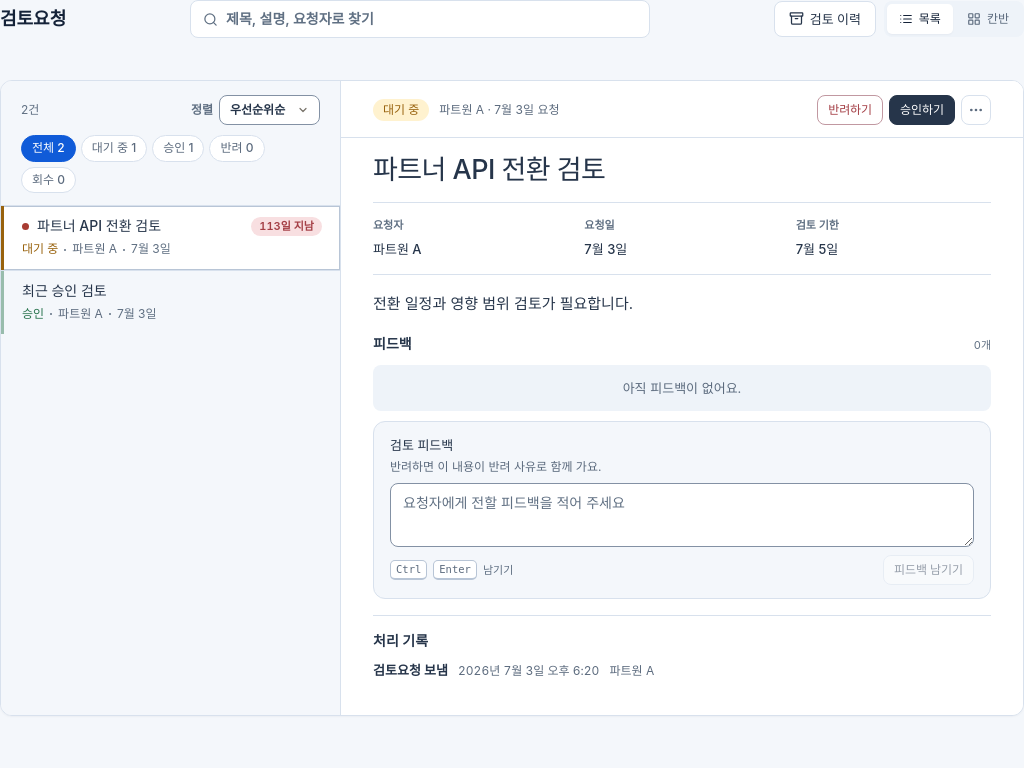
Test: ReviewsPanel › clears the list status filter when switching to kanban
Click the button "승인 1" at (178, 148), box [152,135,204,162]
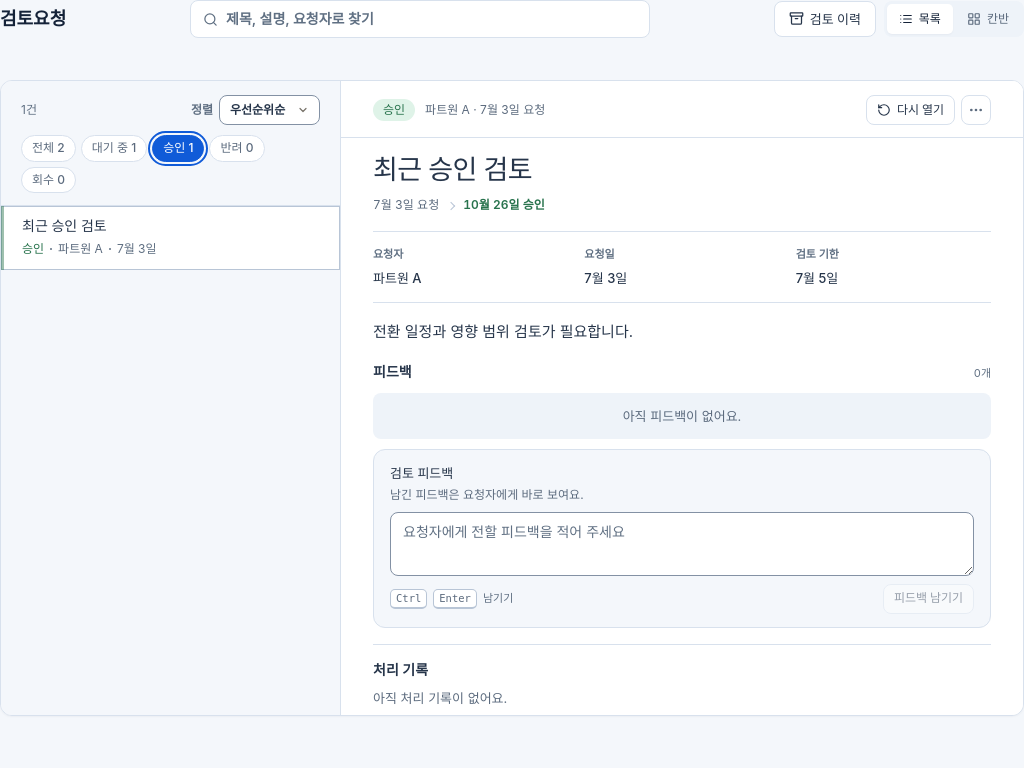
Expected: the button "파트너 API 전환 검토" is gone
Click the button "칸반" at (988, 19), box [955,4,1021,34]
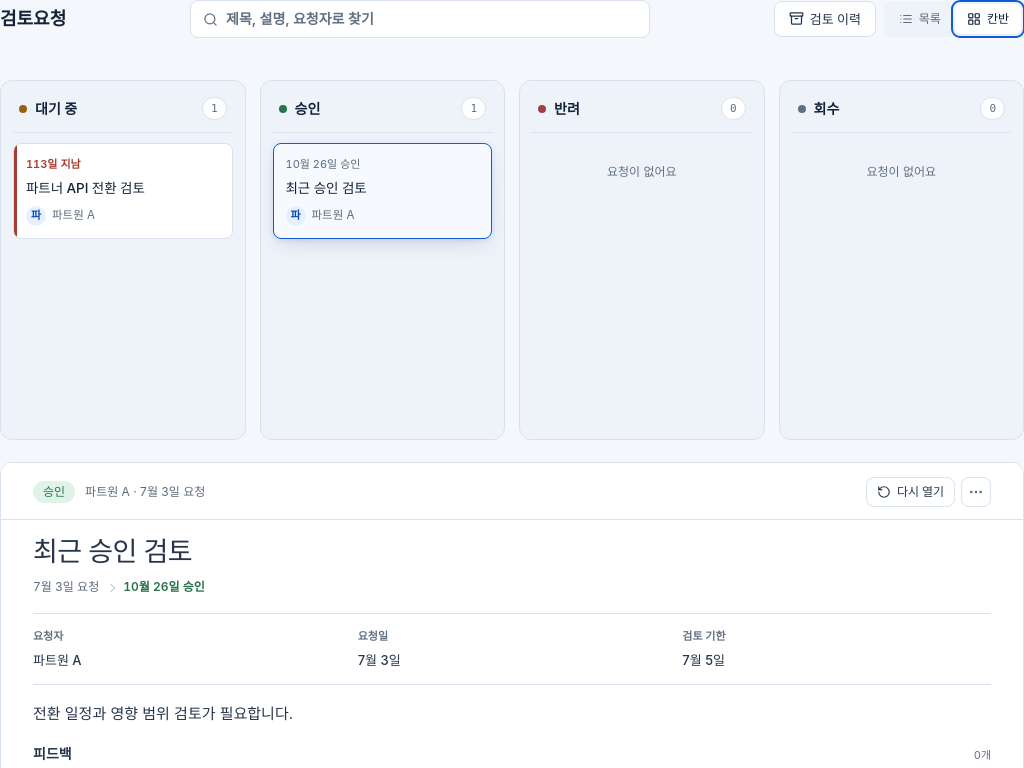
Expected: the text "최근 승인 검토" is shown, [286,180,367,196]
Expected: the text "파트너 API 전환 검토" is shown, [26,180,145,196]
